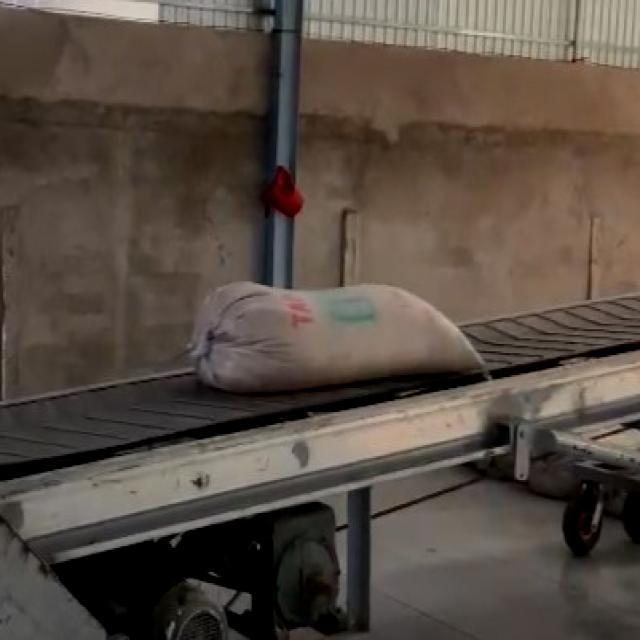gunny_bag: (192, 283, 485, 394)
